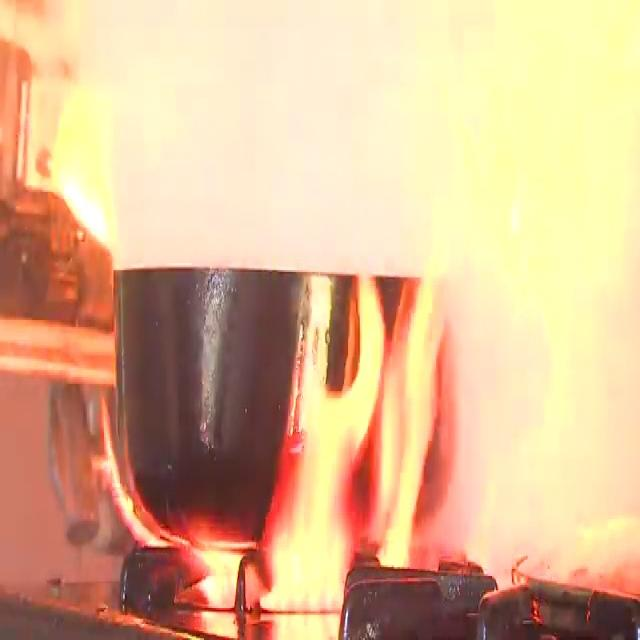fire: (73, 262, 484, 640)
